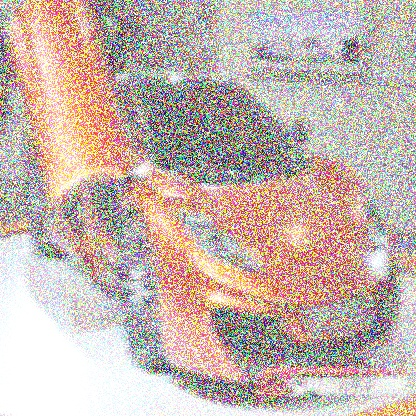Vehicle: (8, 1, 403, 388)
